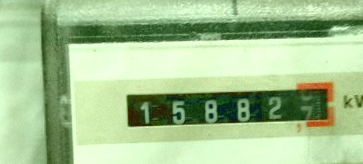1: (138, 95, 152, 125)
2: (265, 93, 283, 120)
5: (169, 97, 187, 127)
7: (298, 102, 312, 119)
8: (201, 96, 218, 124), (234, 94, 251, 122)
screen: (114, 72, 341, 138)
